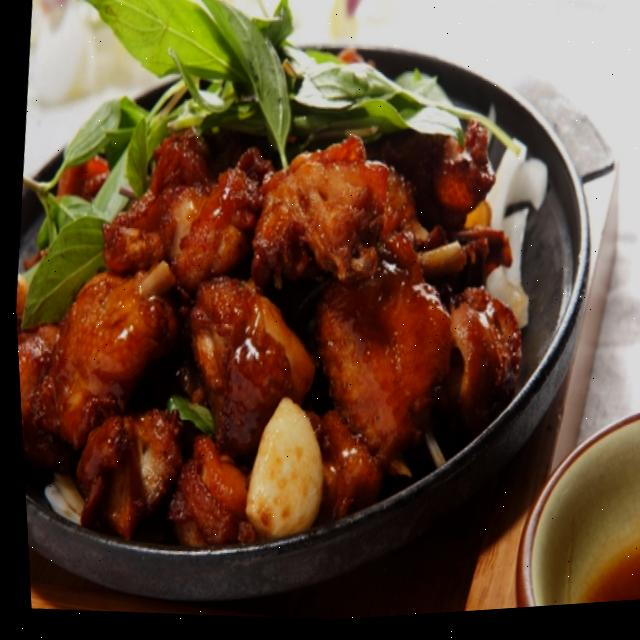鸡肉料理 含炸鸡: (2, 11, 638, 640)
